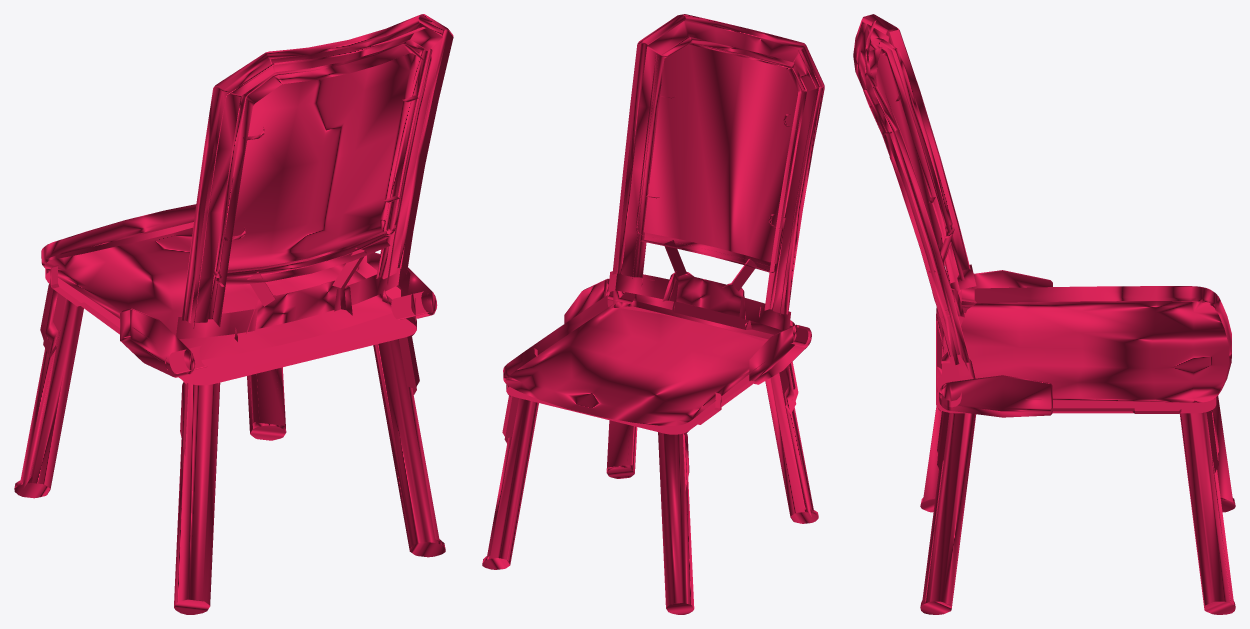
File: uee_lawless_prop_chair_base_01.glb
3 views of the same model, side by side, from view 1: azimuth 30°, elevation 25°; view 2: azimuth 150°, elevation 25°; view 3: azimuth 270°, elevation 25° (orthographic). The views are drawn at different scales.
Size of the model in its own units: 0.5624 by 1.15 by 0.7852.
